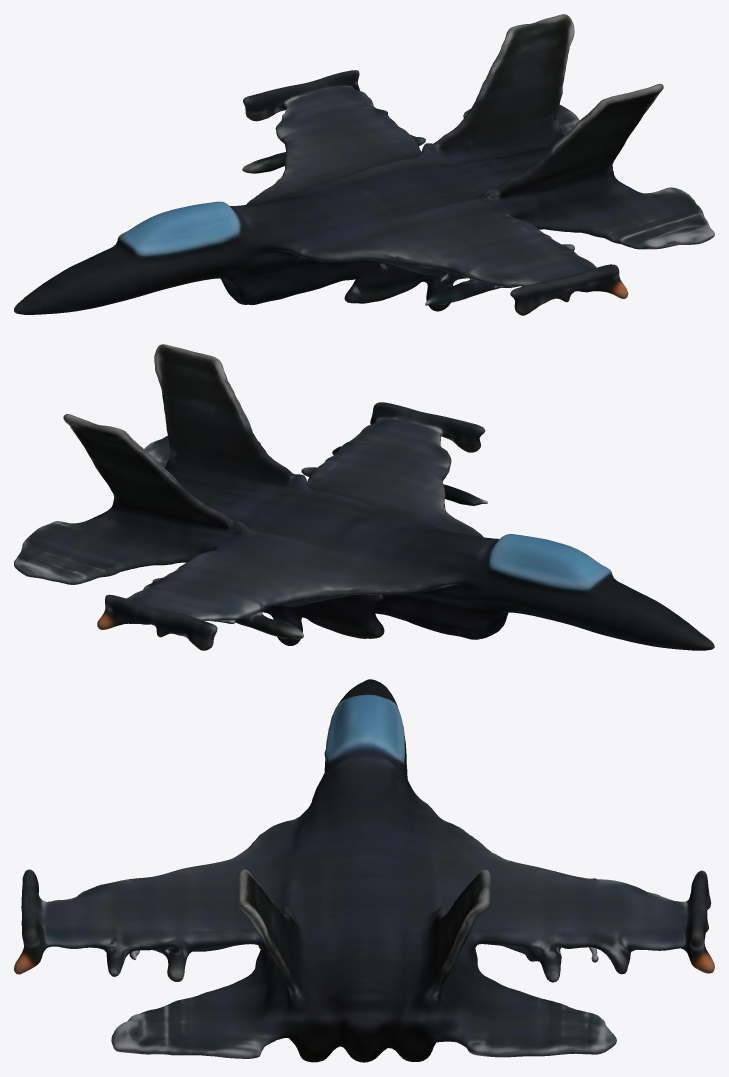
Rendered from 9602d8c4cf9a_An_f16_jet_with_3d_.fbx.
3 renders of one model, top to bottom at view 1: azimuth 30°, elevation 25°; view 2: azimuth 150°, elevation 25°; view 3: azimuth 270°, elevation 25°, orthographic. The views are drawn at different scales.
Parts seen in each view (by area): view 1: high_poly; view 2: high_poly; view 3: high_poly.
Boxes of the visible parts, x1=… form: high_poly: x1=14, y1=14, x2=714, y2=315; high_poly: x1=14, y1=344, x2=714, y2=650; high_poly: x1=14, y1=679, x2=714, y2=1062.
Bounding box in the file's own units: 100 × 29.1 × 77.75.
